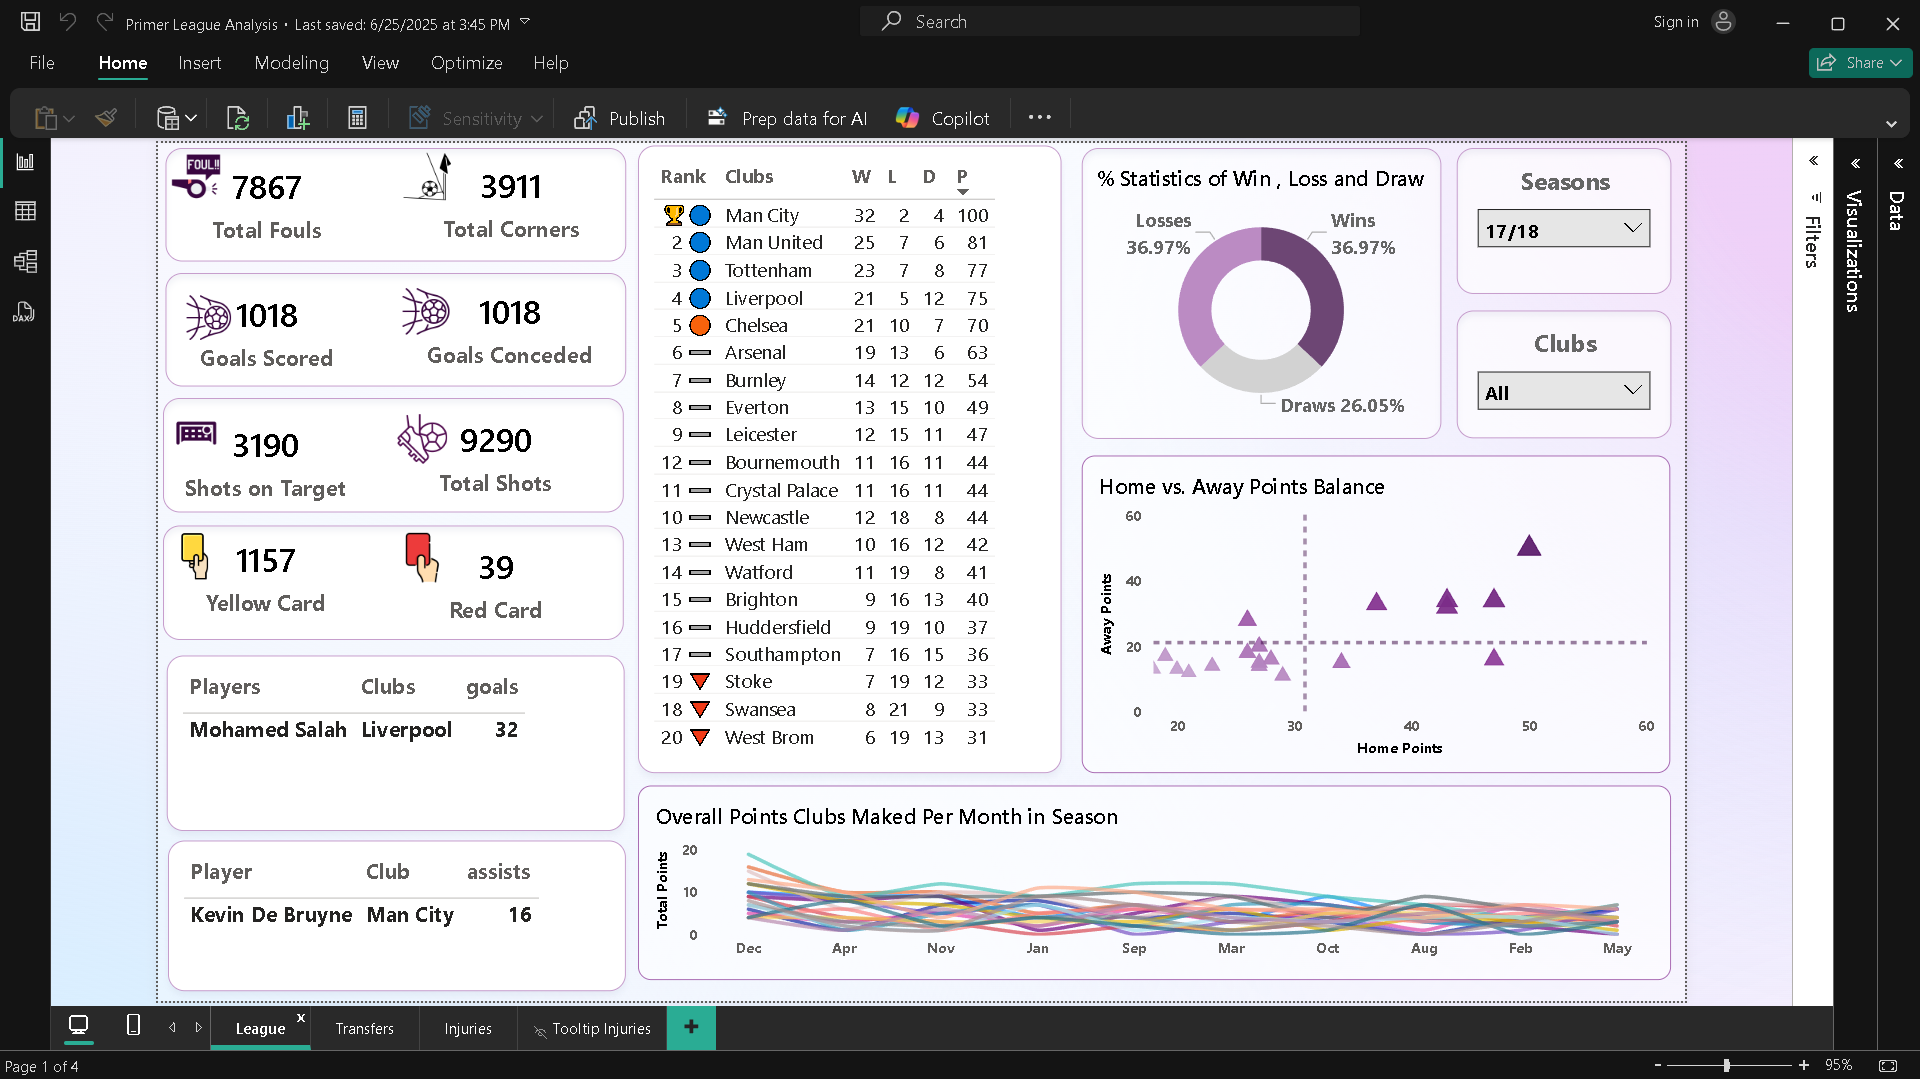

What the dashboard file says about the page in this screenshot:
{"tool":"powerbi","page":{"name":"League","canvas":[1400,820],"ordinal":0},"visuals":[{"type":"shape","box":[0,0,1396,80],"z":0},{"type":"shape","box":[0,96,125,704],"z":1000},{"type":"shape","box":[138,205,386,95],"z":2000},{"type":"shape","box":[137.5,99.7,386.2,95],"z":3000},{"type":"tableEx","fields":{"Values":["Match Measure.Rank","reporting dim_club.club_name","Match Measure.Total Wins","Match Measure.Total Losses","Match Measure.Total Draws","Match Measure.Total Points"]},"box":[533.8,98.2,355.6,526.7],"z":4000},{"type":"slicer","title":"Seasons","fields":{"Values":["reporting dim_season.season"]},"box":[1224,96,176,128],"z":5000},{"type":"shape","box":[136,417,386,96],"z":6000},{"type":"shape","box":[136,310,386,96],"z":7000},{"type":"card","fields":{"Values":["Match Measure.Goals Scored"]},"box":[139.3,204.9,167.8,96.7],"z":8000},{"type":"card","fields":{"Values":["Match Measure.Goals Conceded"]},"box":[342.8,202.5,167.5,96.2],"z":9000},{"type":"card","fields":{"Values":["Match Measure.total shots on Target"]},"box":[137.1,313.8,170,96.7],"z":10000},{"type":"image","box":[144,208,32,48],"z":11000},{"type":"image","box":[336.2,210.7,40,50],"z":12000},{"type":"image","box":[139.3,310.4,40,50],"z":13000},{"type":"card","fields":{"Values":["Match Measure.Total Fouls"]},"box":[140.4,98.2,166.7,95.6],"z":14000},{"type":"image","box":[138.2,96,40,50],"z":15000},{"type":"card","fields":{"Values":["Match Measure.total red c"]},"box":[331.7,416.3,167,96],"z":16000},{"type":"image","box":[332.9,417.3,40,50],"z":17000},{"type":"card","fields":{"Values":["Match Measure.Total Yellow C"]},"box":[139.3,410.4,166.7,96.7],"z":18000},{"type":"image","box":[137.1,418.2,40,50],"z":19000},{"type":"tableEx","fields":{"Values":["reporting dim_player.player_name","reporting dim_club.club_name","reporting fact_player_performance.goals"]},"box":[139,526,383.8,147.5],"z":20000},{"type":"tableEx","fields":{"Values":["reporting dim_player.player_name","reporting dim_club.club_name","reporting fact_player_performance.assists"]},"box":[140.3,681,383.8,126.2],"z":21000},{"type":"lineChart","title":"Overall Points Clubs Maked Per Month in Season","fields":{"Category":["reporting dim_date.month_name"],"Series":["reporting dim_club.club_name"],"Y":["Match Measure.Total Points"]},"box":[533.8,634.9,866.7,163.3],"z":22000},{"type":"card","fields":{"Values":["Match Measure.total shots on Target"]},"box":[331.5,310.4,166.7,95.6],"z":23000},{"type":"card","fields":{"Values":["Match Measure.Total Corners"]},"box":[344.1,97.5,167.5,96.2],"z":24000},{"type":"image","box":[337.3,97.3,40,50],"z":25000},{"type":"image","box":[332.9,317.3,40,50],"z":26000},{"type":"donutChart","title":"% Statistics of Win , Loss  and Draw","fields":{"Y":["Match Measure.Total Wins","Match Measure.Total Draws","Match Measure.Total Losses"]},"box":[912,96,304,256],"z":27000},{"type":"scatterChart","title":"Home vs. Away Points Balance","fields":{"X":["Match Measure.Home Points"],"Size":["Match Measure.Total Points"],"Y":["Match Measure.Away Points"],"Series":["dim_club.club_name"]},"box":[906.5,358.5,493.8,266.2],"z":28000},{"type":"slicer","title":"Clubs","fields":{"Values":["reporting dim_club.club_name"]},"box":[1224,224,176,128],"z":29000},{"type":"actionButton","box":[16,208,96,48],"z":30000},{"type":"actionButton","box":[16,448,96,48],"z":31000},{"type":"actionButton","box":[16,320,96,48],"z":32000}]}

Visuals, with their boxes on the page's 1400x820 design canvas (x1, y1, x2, y2). These are canvas units, not pixel positions in the 1920x1079 screenshot, which may show the page scaled, cropped or inside an application window:
shape: bbox(0, 0, 1396, 80)
shape: bbox(0, 96, 125, 800)
shape: bbox(138, 205, 524, 300)
shape: bbox(138, 100, 524, 195)
tableEx - Match Measure.Rank x reporting dim_club.club_name: bbox(534, 98, 889, 625)
"Seasons" slicer: bbox(1224, 96, 1400, 224)
shape: bbox(136, 417, 522, 513)
shape: bbox(136, 310, 522, 406)
card - Match Measure.Goals Scored: bbox(139, 205, 307, 302)
card - Match Measure.Goals Conceded: bbox(343, 202, 510, 299)
card - Match Measure.total shots on Target: bbox(137, 314, 307, 410)
image: bbox(144, 208, 176, 256)
image: bbox(336, 211, 376, 261)
image: bbox(139, 310, 179, 360)
card - Match Measure.Total Fouls: bbox(140, 98, 307, 194)
image: bbox(138, 96, 178, 146)
card - Match Measure.total red c: bbox(332, 416, 499, 512)
image: bbox(333, 417, 373, 467)
card - Match Measure.Total Yellow C: bbox(139, 410, 306, 507)
image: bbox(137, 418, 177, 468)
tableEx - reporting dim_player.player_name x reporting dim_club.club_name: bbox(139, 526, 523, 674)
tableEx - reporting dim_player.player_name x reporting dim_club.club_name: bbox(140, 681, 524, 807)
"Overall Points Clubs Maked Per Month in Season" lineChart: bbox(534, 635, 1400, 798)
card - Match Measure.total shots on Target: bbox(332, 310, 498, 406)
card - Match Measure.Total Corners: bbox(344, 98, 512, 194)
image: bbox(337, 97, 377, 147)
image: bbox(333, 317, 373, 367)
"% Statistics of Win , Loss  and Draw" donutChart: bbox(912, 96, 1216, 352)
"Home vs. Away Points Balance" scatterChart: bbox(906, 358, 1400, 625)
"Clubs" slicer: bbox(1224, 224, 1400, 352)
actionButton: bbox(16, 208, 112, 256)
actionButton: bbox(16, 448, 112, 496)
actionButton: bbox(16, 320, 112, 368)
